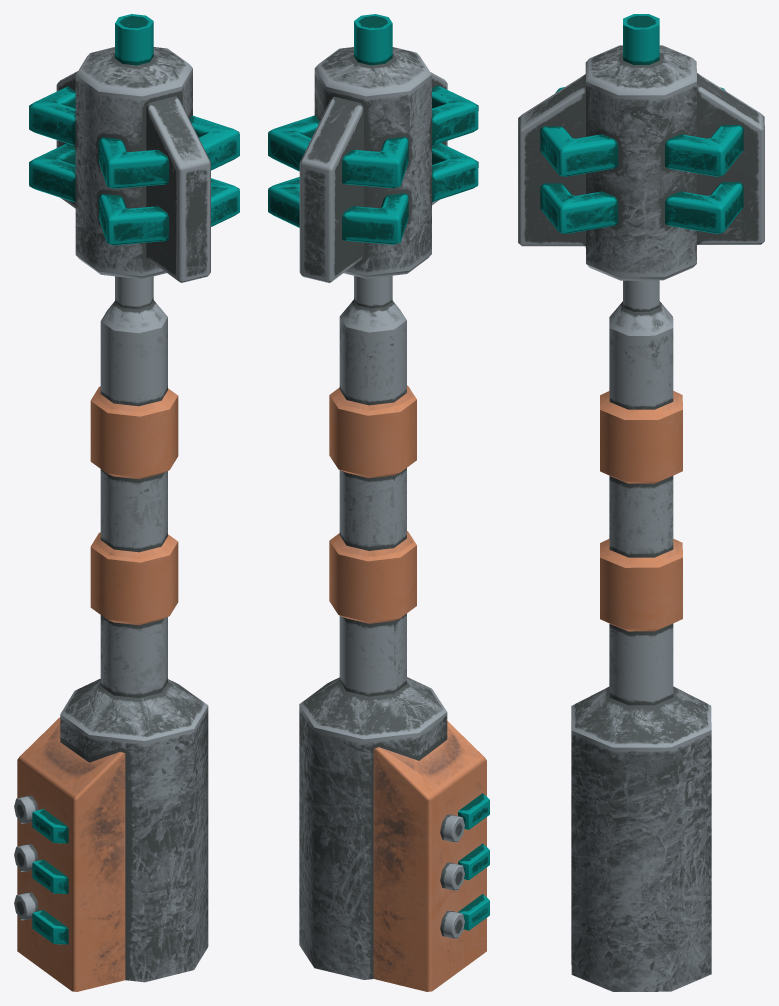
Rendered from SM_Props_40.fbx.
3 renders of one model, left to right at view 1: azimuth 30°, elevation 25°; view 2: azimuth 150°, elevation 25°; view 3: azimuth 270°, elevation 25°, orthographic.
Visible parts, largest first — view 1: SM_Props_40; view 2: SM_Props_40; view 3: SM_Props_40.
Boxes of the visible parts, bbox=[...] form: SM_Props_40: bbox=[14, 14, 239, 991]; SM_Props_40: bbox=[268, 14, 489, 991]; SM_Props_40: bbox=[518, 14, 764, 991].
Bounding box in the file's own units: 39.68 × 50.42 × 212.
1 material, 1 textured.
